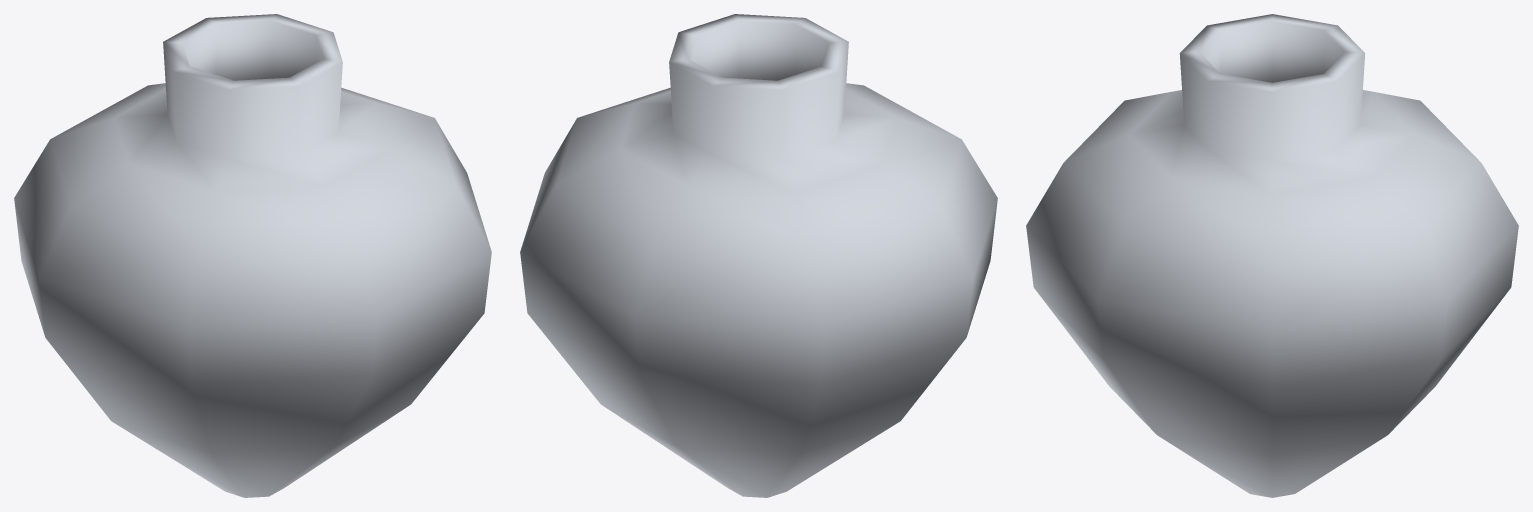
File: bottle_glassware_pear_shaped_flask_small_003.glb
The picture shows the model from 3 angles, left to right: view 1: azimuth 30°, elevation 25°; view 2: azimuth 150°, elevation 25°; view 3: azimuth 270°, elevation 25°; orthographic projection.
Visible parts, largest first — view 1: bottle_glassware_pear_shaped_flask_small.003; view 2: bottle_glassware_pear_shaped_flask_small.003; view 3: bottle_glassware_pear_shaped_flask_small.003.
Boxes of the visible parts, box(x1,y1,x2,y2) form: bottle_glassware_pear_shaped_flask_small.003: box(14, 14, 491, 497); bottle_glassware_pear_shaped_flask_small.003: box(520, 14, 997, 497); bottle_glassware_pear_shaped_flask_small.003: box(1026, 14, 1518, 497).
Size of the model in its own units: 9.84 by 9.53 by 9.84.
Materials: 1 (1 with a texture image).
